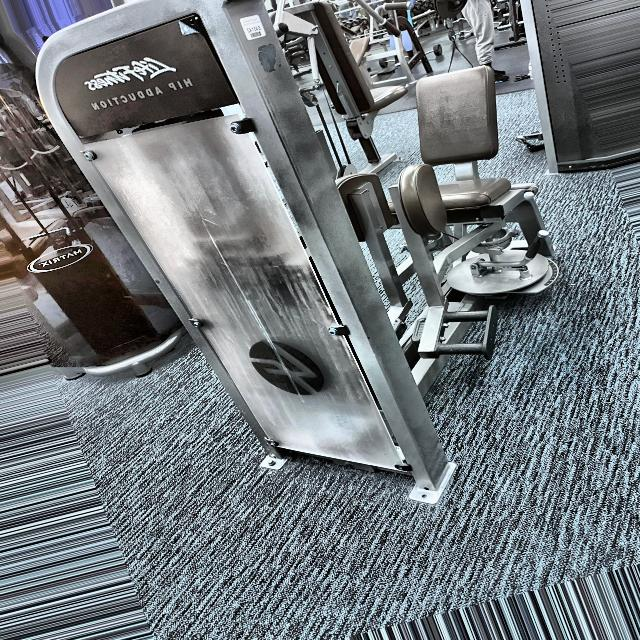hip_adduction_machine: (359, 11, 544, 390), (76, 68, 204, 141)
